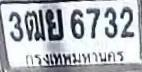2: (120, 6, 134, 37)
3: (8, 10, 23, 40), (103, 6, 117, 37)
6: (70, 8, 83, 38)
7: (85, 7, 99, 38)
A18: (24, 9, 45, 40)
A34: (45, 8, 63, 40)
BKK: (19, 47, 129, 67)
